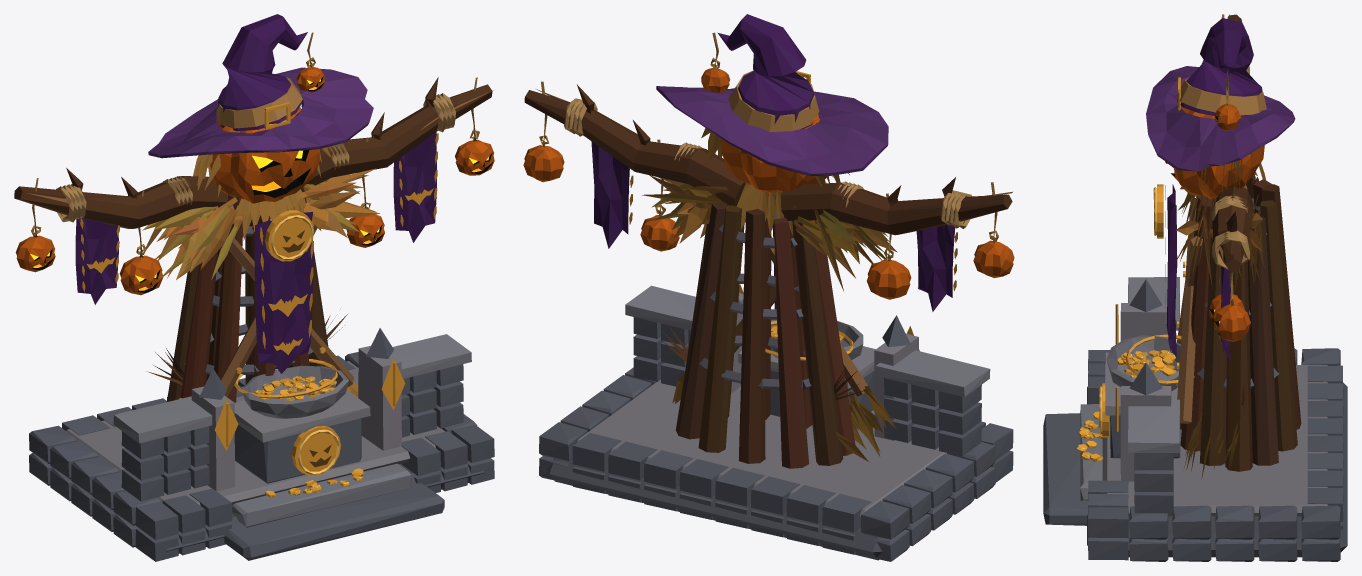
The model's file is HalloweenOfferingShrine_LOD1_Web.glb.
3 renders of one model, left to right at view 1: azimuth 30°, elevation 25°; view 2: azimuth 150°, elevation 25°; view 3: azimuth 270°, elevation 25°, orthographic. The views are drawn at different scales.
Parts seen in each view (by area): view 1: Shrine_Structure, Shrine_Gold, Shrine_Embers; view 2: Shrine_Structure; view 3: Shrine_Structure, Shrine_Gold.
Part boxes in pixels (bbox=[...]): Shrine_Structure: bbox=[14, 14, 494, 561]; Shrine_Gold: bbox=[87, 102, 433, 497]; Shrine_Embers: bbox=[30, 79, 489, 290]; Shrine_Structure: bbox=[523, 14, 1014, 561]; Shrine_Structure: bbox=[1043, 14, 1347, 561]; Shrine_Gold: bbox=[1077, 77, 1194, 461].
Bounding box in the file's own units: 6.43 × 5.8 × 3.46.
